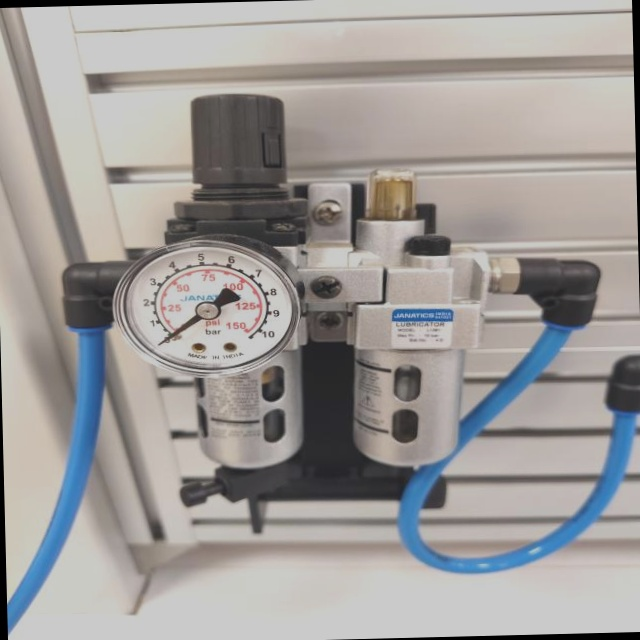FRL unit: (46, 74, 613, 524)
push button: (109, 231, 304, 380)
